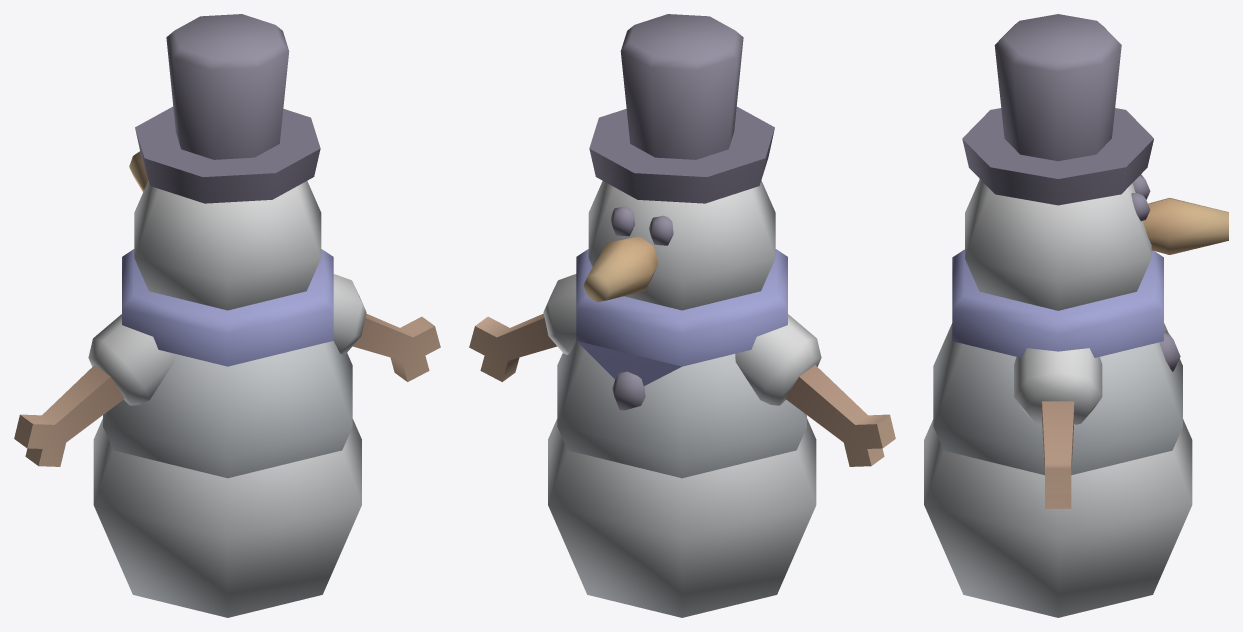
Rendered from snowman.glb.
3 renders of one model, left to right at view 1: azimuth 30°, elevation 25°; view 2: azimuth 150°, elevation 25°; view 3: azimuth 270°, elevation 25°, orthographic.
Visible parts, largest first — view 1: snowman; view 2: snowman; view 3: snowman.
Boxes of the visible parts, <box> form: snowman: <box>14,14,440,617</box>; snowman: <box>469,14,895,617</box>; snowman: <box>924,14,1228,617</box>.
Bounding box in the file's own units: 1.08 × 1.36 × 0.6882.
